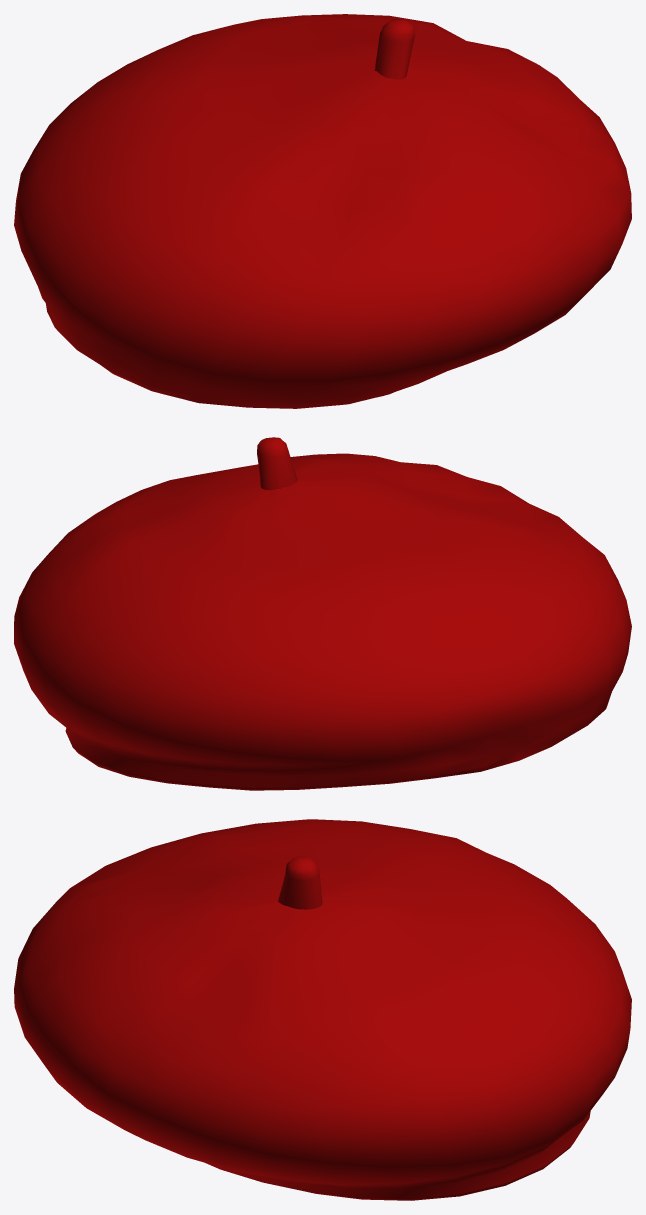
File: beret.fbx
The picture shows the model from 3 angles, top to bottom: view 1: azimuth 30°, elevation 25°; view 2: azimuth 150°, elevation 25°; view 3: azimuth 270°, elevation 25°; orthographic projection. The views are drawn at different scales.
Visible parts, largest first — view 1: Esfera UV; view 2: Esfera UV; view 3: Esfera UV.
Part boxes in pixels (x1,y1,x2,y2): Esfera UV: (14, 14, 631, 408); Esfera UV: (14, 437, 631, 790); Esfera UV: (14, 819, 631, 1200).
Size of the model in its own units: 203 by 98.19 by 197.
